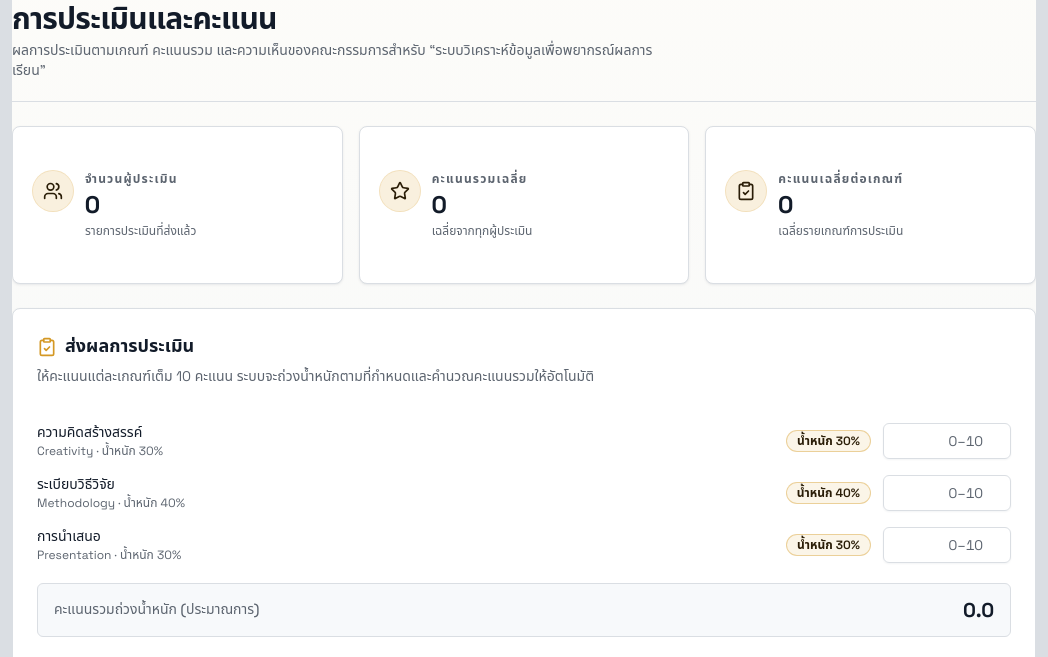
Test: EvaluationsPage › submits an evaluation with the entered criteria
The image size is (1048, 657).
Type "9" into the number field with test id "evaluations.score_input.creativity" at (947, 441), box [883,423,1011,459]
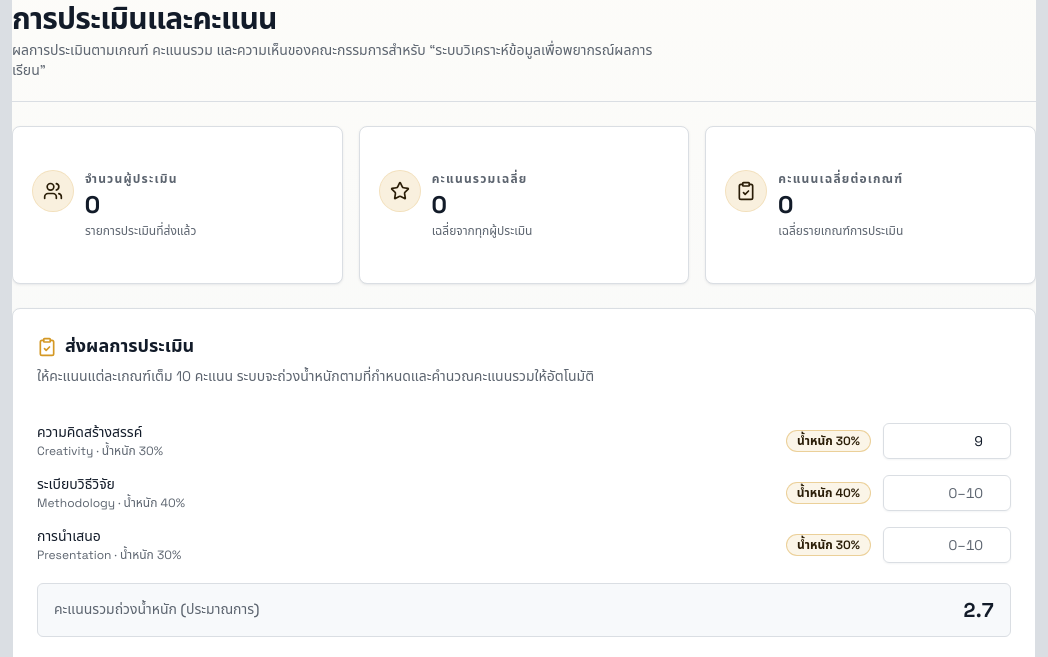
Type "8" into the number field with test id "evaluations.score_input.methodology" at (947, 493), box [883,475,1011,511]
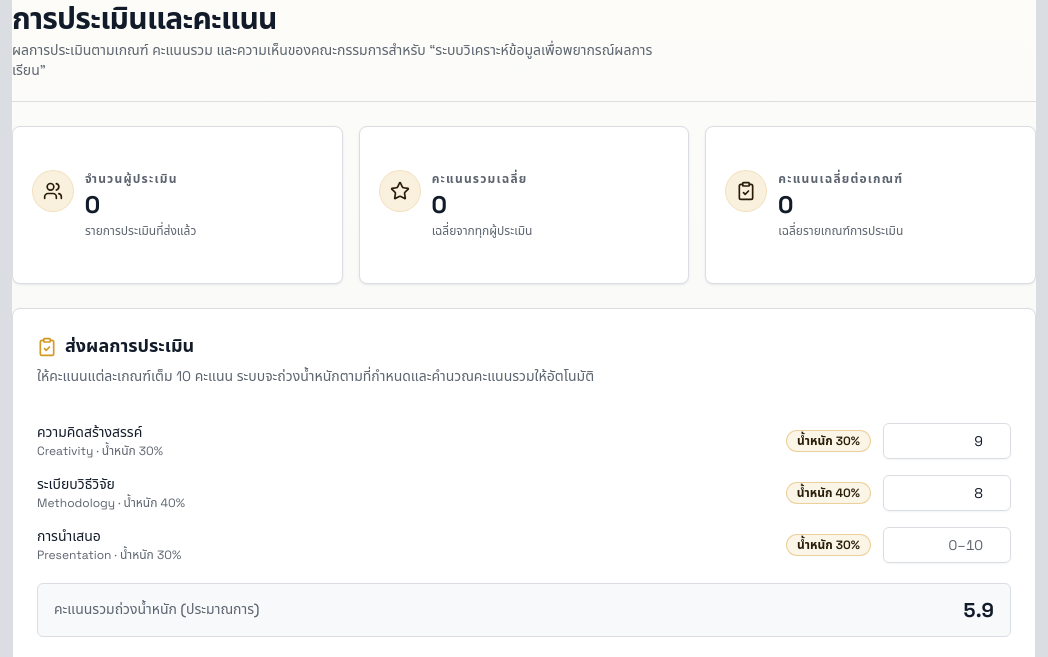
Type "7" into the number field with test id "evaluations.score_input.presentation" at (947, 545), box [883,527,1011,563]
(page scrolled)
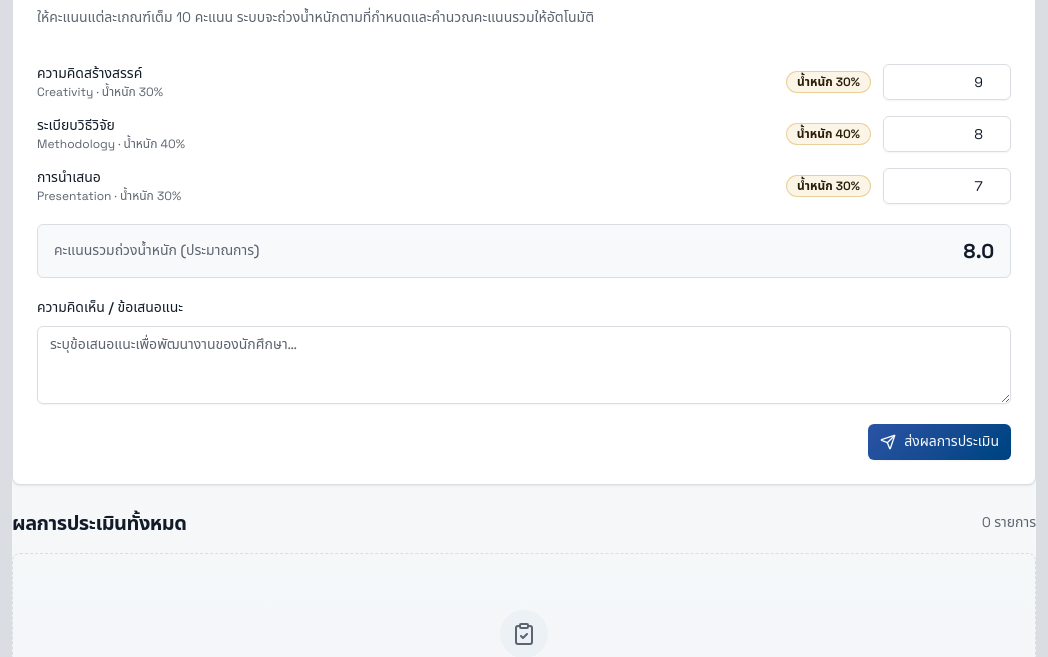
Type "ผลงานดีมาก" into the text box with test id "evaluations.comment_textarea" at (524, 365), box [37,326,1011,404]
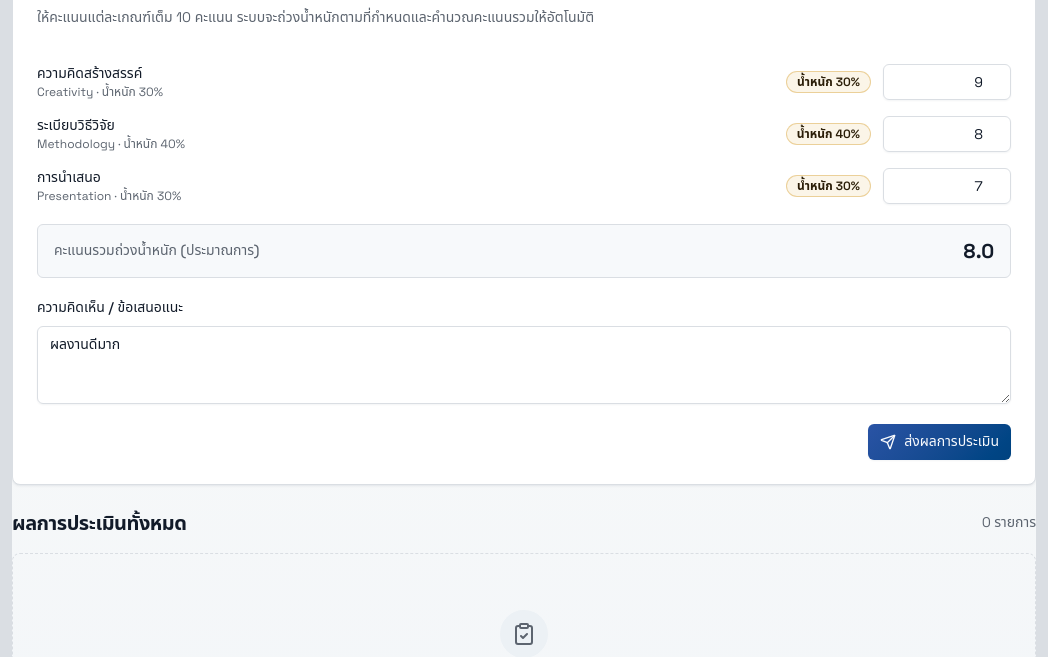
Submit the form with test id "evaluations.submit_button", box [37,64,1011,460]
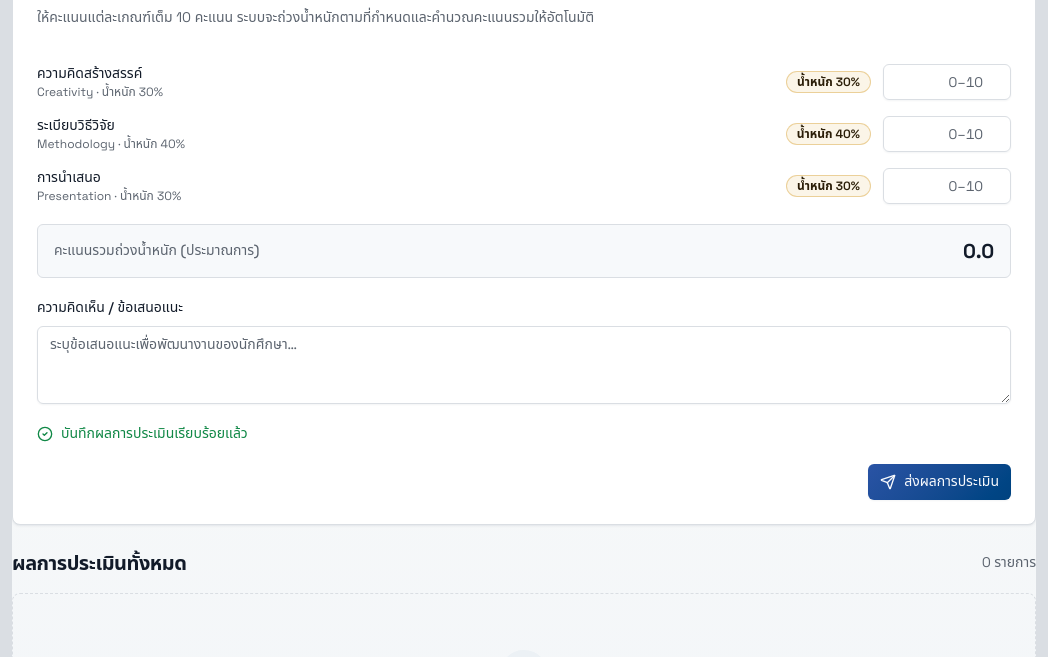
Now the element with test id "evaluations.success_state" is shown, box [37,423,248,444]
